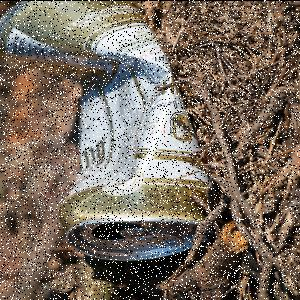Can: (2, 2, 218, 265)
